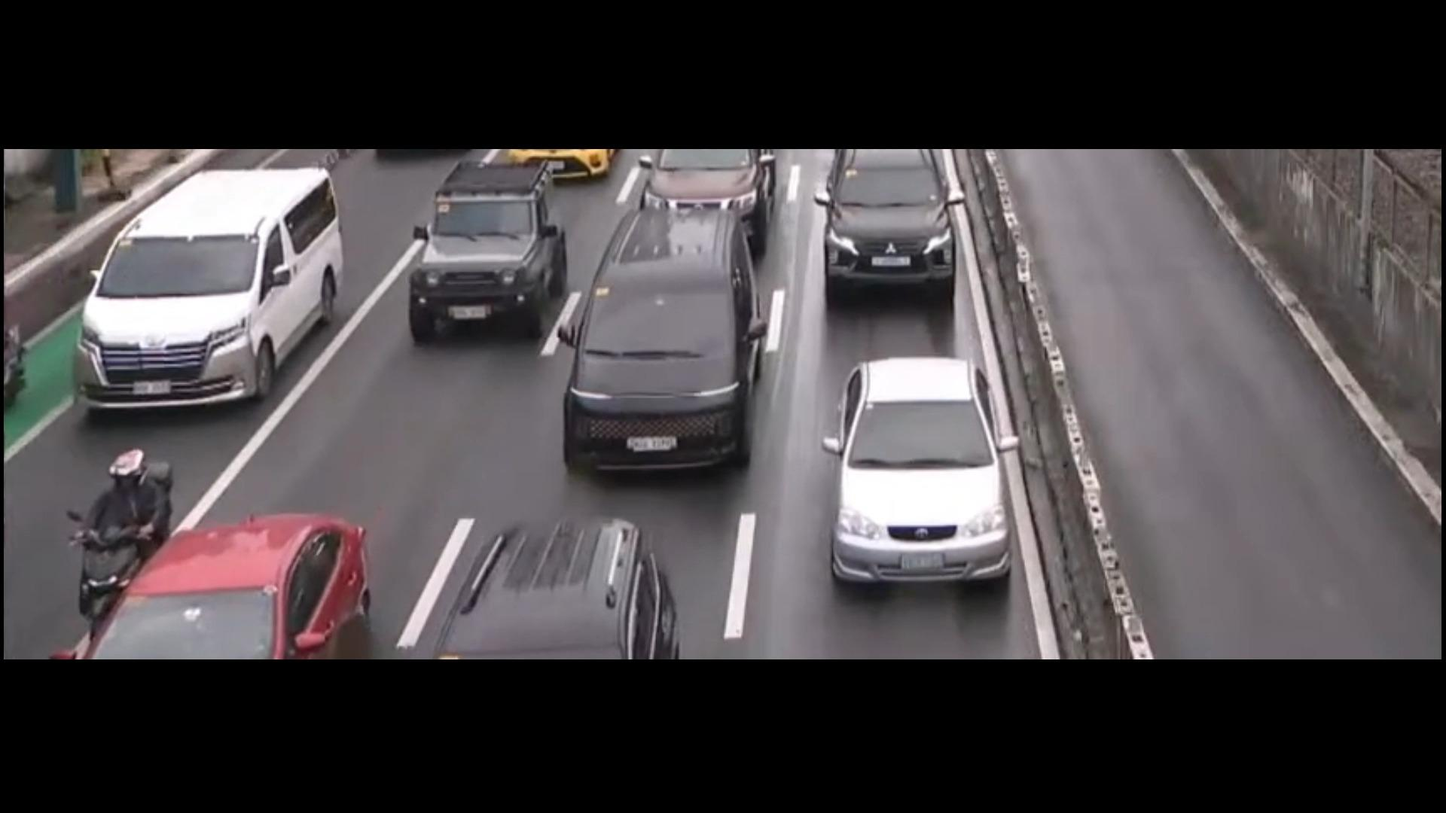Motorcycle: (74, 449, 177, 634)
SUV: (565, 212, 759, 477), (429, 518, 681, 657), (410, 159, 572, 346), (822, 150, 959, 300), (638, 146, 777, 247)
Sedan: (81, 513, 374, 660), (830, 357, 1013, 587)
Van: (73, 168, 343, 414)
